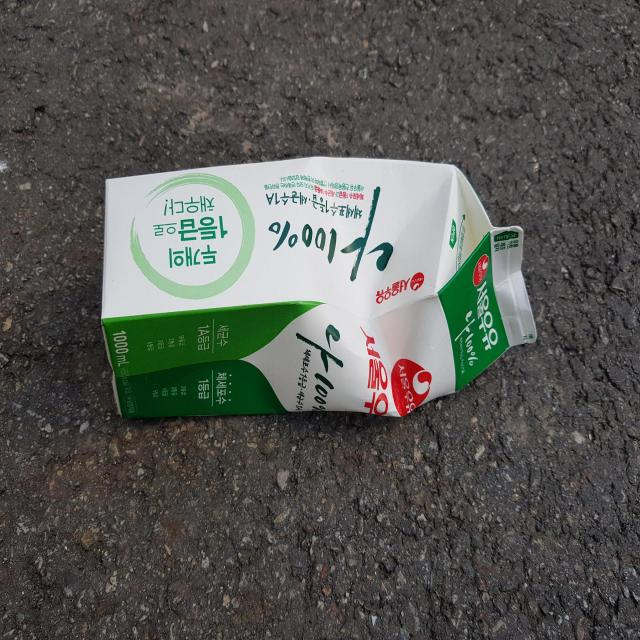paperpack: (101, 156, 537, 418)
